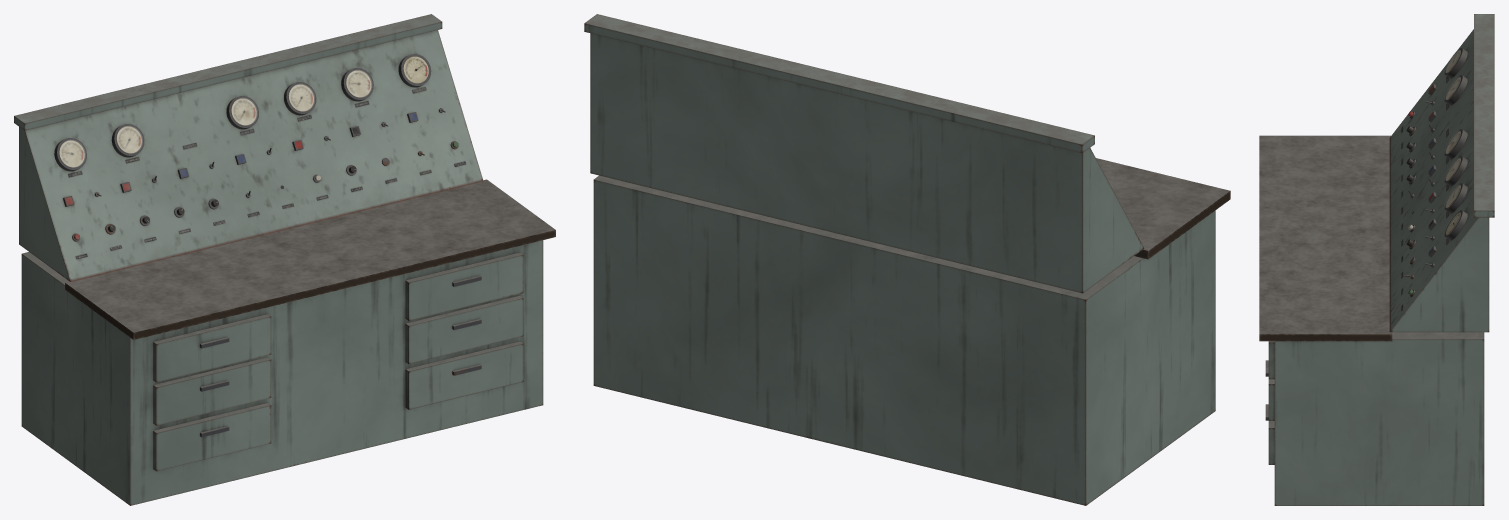
File: SM_ControlConsole_A.fbx
The picture shows the model from 3 angles, left to right: view 1: azimuth 30°, elevation 25°; view 2: azimuth 150°, elevation 25°; view 3: azimuth 270°, elevation 25°; orthographic projection. The views are drawn at different scales.
Parts seen in each view (by area): view 1: SM_ControlConsole_A; view 2: SM_ControlConsole_A; view 3: SM_ControlConsole_A.
Part boxes in pixels (bbox=[...]): SM_ControlConsole_A: bbox=[14, 14, 555, 505]; SM_ControlConsole_A: bbox=[584, 14, 1230, 505]; SM_ControlConsole_A: bbox=[1259, 14, 1494, 505].
Bounding box in the file's own units: 1.84 × 1.28 × 0.92.
Materials: 2 (1 with a texture image).
